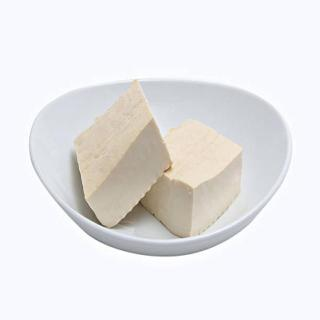Tahu: (73, 74, 249, 251)
